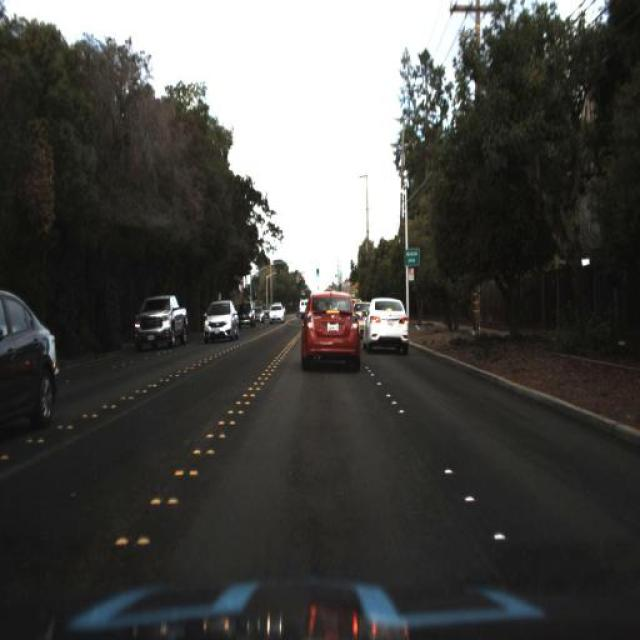car: (0, 283, 60, 448), (300, 288, 364, 372), (128, 288, 190, 352), (132, 294, 190, 354), (364, 296, 411, 352), (197, 294, 239, 342), (204, 298, 240, 338), (236, 298, 258, 332), (266, 302, 289, 326)
